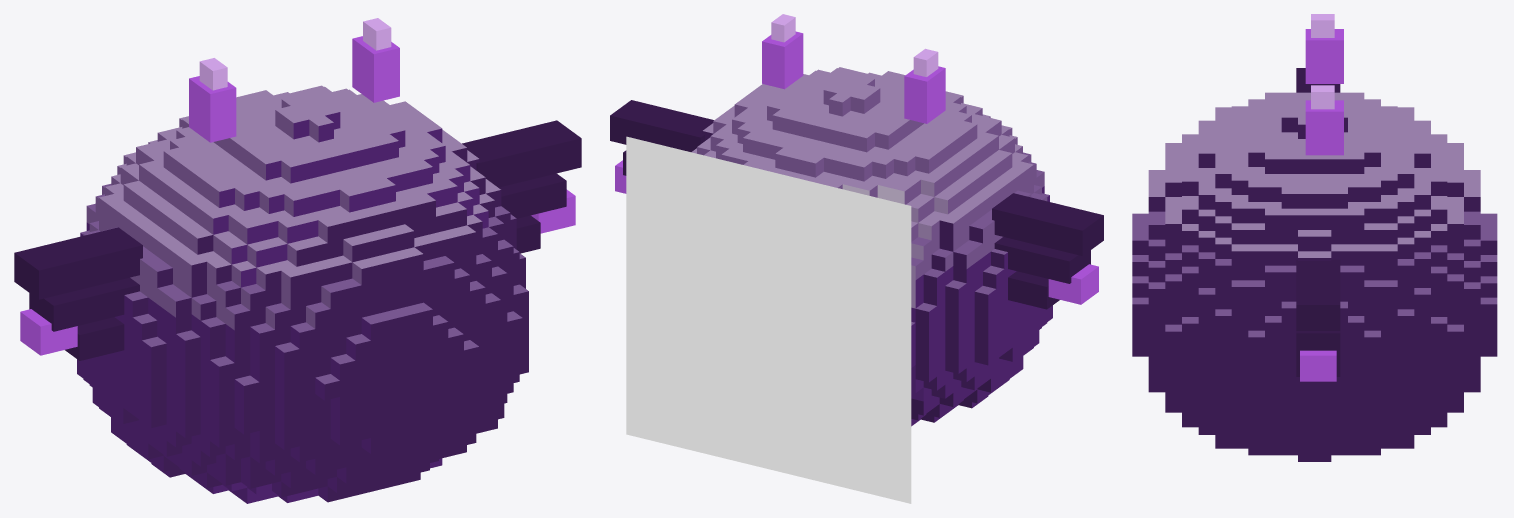
File: slime_tenebra.glb
3 views of the same model, side by side, from view 1: azimuth 30°, elevation 25°; view 2: azimuth 150°, elevation 25°; view 3: azimuth 270°, elevation 25° (orthographic). The views are drawn at different scales.
Parts seen in each view (by area): view 1: Shell, ElementDetails; view 2: Face, Shell, ElementDetails; view 3: Shell, ElementDetails.
Boxes of the visible parts, <box> form: Shell: <box>77,85,528,503</box>; ElementDetails: <box>14,18,581,360</box>; Face: <box>626,136,911,503</box>; Shell: <box>691,67,1052,426</box>; ElementDetails: <box>610,14,1103,309</box>; Shell: <box>1132,92,1497,461</box>; ElementDetails: <box>1296,14,1343,381</box>.
Size of the model in its own units: 1.75 by 1.31 by 1.15.
